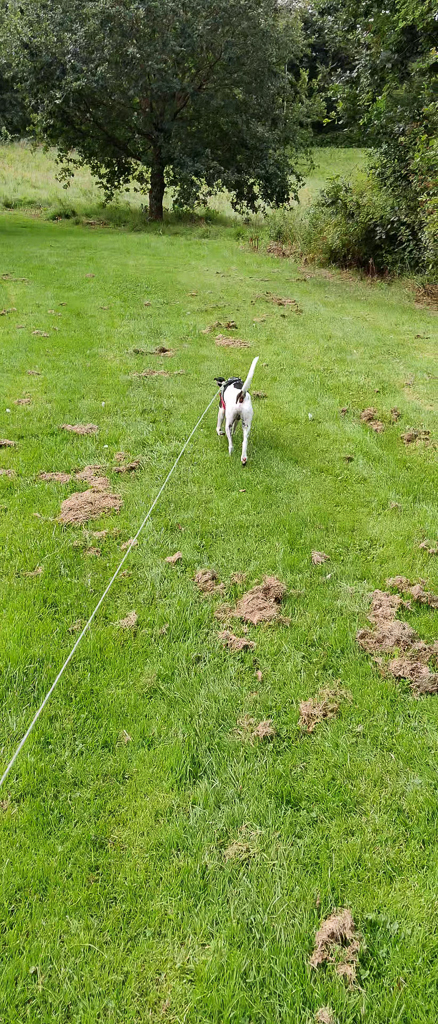Dog: (203, 345, 271, 475)
